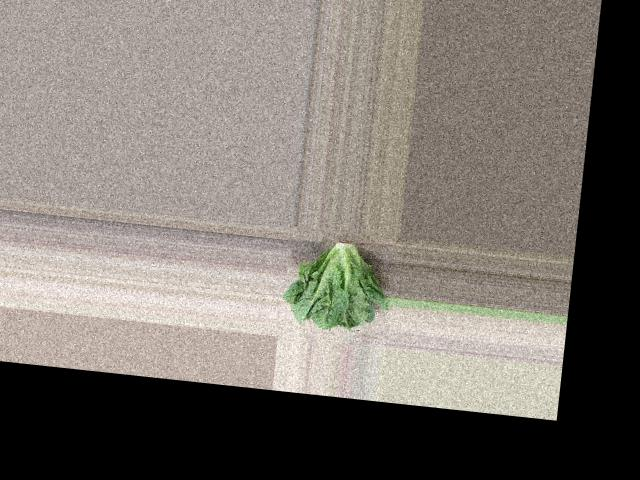lettuce: (283, 229, 396, 338)
